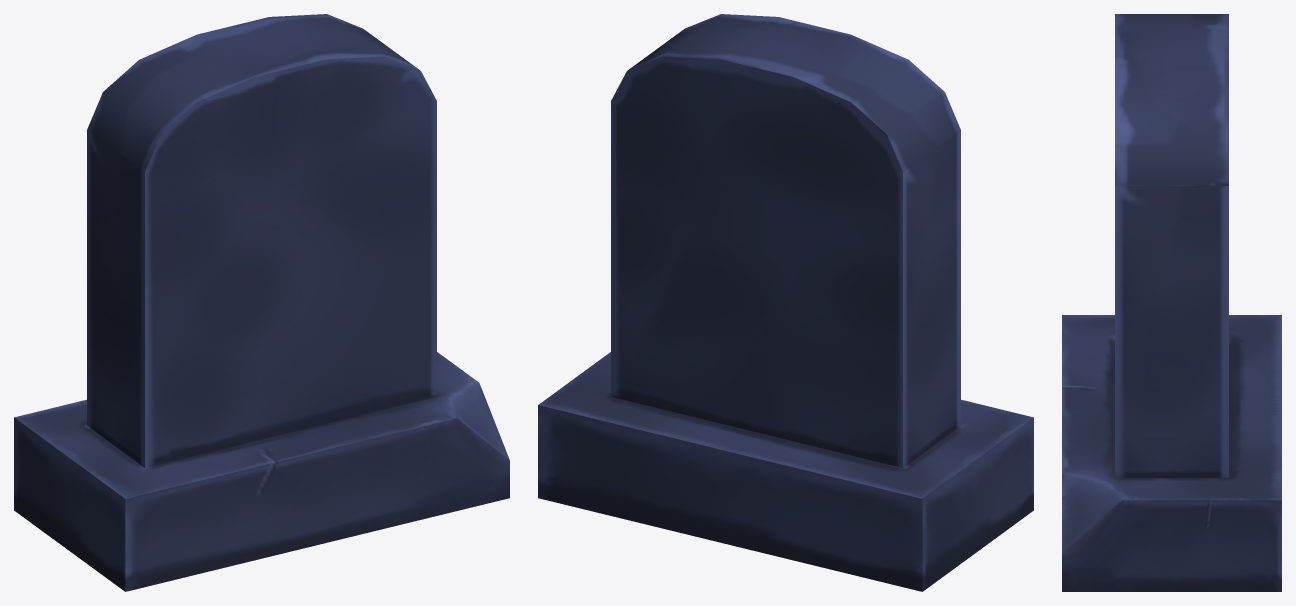
Rendered from Tomba1.glb.
3 views of the same model, side by side, from view 1: azimuth 30°, elevation 25°; view 2: azimuth 150°, elevation 25°; view 3: azimuth 270°, elevation 25° (orthographic).
Visible parts, largest first — view 1: Tomba_01; view 2: Tomba_01; view 3: Tomba_01.
Part boxes in pixels (x1,y1,x2,y2): Tomba_01: (14, 14, 509, 591); Tomba_01: (538, 14, 1033, 591); Tomba_01: (1062, 14, 1281, 591).
Bounding box in the file's own units: 2 × 2.27 × 1.
Materials: 1 (1 with a texture image).
